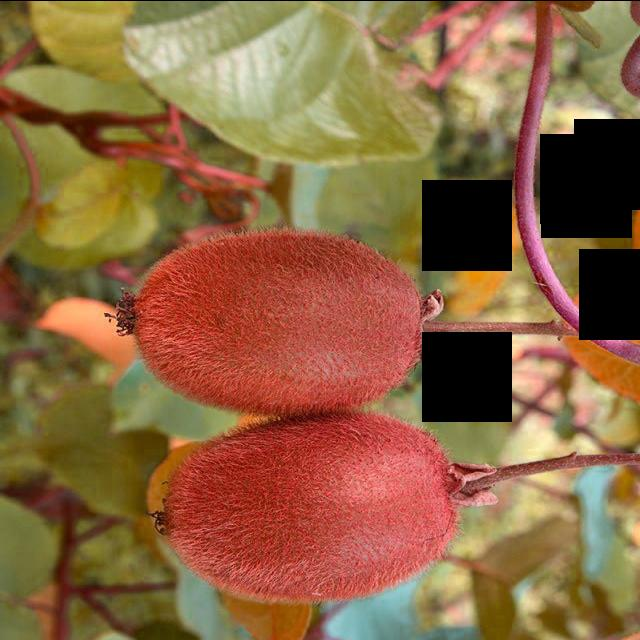kiwi: (153, 410, 471, 612), (117, 219, 431, 421)
